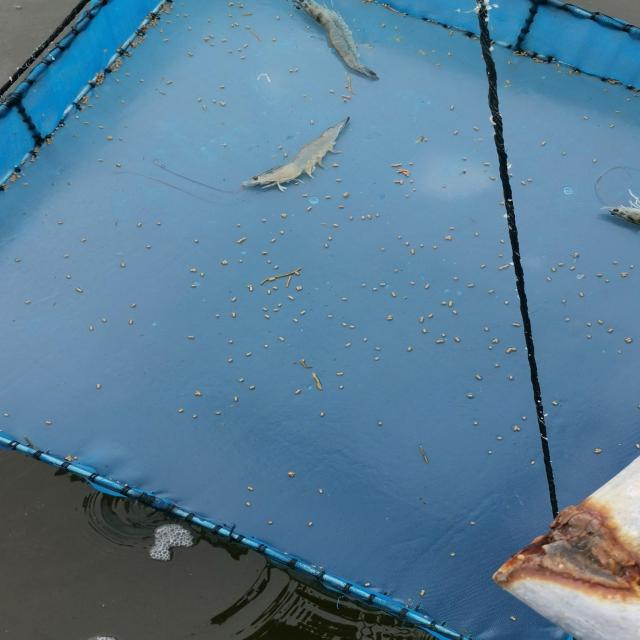Shrimp feeds: (395, 168, 413, 177), (450, 273, 461, 283), (334, 369, 346, 378), (293, 386, 302, 396), (284, 471, 299, 477), (1, 411, 12, 419), (317, 410, 328, 418), (369, 356, 386, 361), (342, 341, 354, 348), (503, 346, 517, 352), (570, 251, 582, 258), (44, 419, 54, 427), (624, 336, 634, 344), (426, 312, 436, 320), (478, 262, 488, 270), (127, 302, 140, 308), (245, 485, 256, 492), (443, 234, 454, 241), (422, 282, 431, 290), (247, 284, 256, 292), (194, 389, 204, 396), (418, 589, 428, 596), (385, 314, 395, 321), (247, 384, 258, 390), (243, 351, 254, 357), (277, 336, 288, 342), (486, 288, 497, 294), (304, 205, 315, 211), (361, 336, 370, 343), (512, 425, 521, 432), (474, 374, 483, 381), (231, 396, 241, 402), (226, 338, 236, 344), (466, 282, 476, 288), (498, 264, 508, 270), (229, 296, 239, 302), (394, 179, 406, 184), (331, 162, 341, 168), (338, 383, 345, 391), (492, 337, 500, 344), (287, 294, 295, 301), (237, 377, 246, 383), (495, 435, 504, 441), (502, 300, 511, 306), (435, 339, 445, 344), (597, 318, 604, 325), (190, 268, 198, 274), (299, 310, 307, 316), (466, 393, 475, 398), (74, 288, 85, 292), (189, 414, 200, 418), (213, 411, 224, 415), (227, 357, 234, 363), (245, 501, 252, 507), (390, 291, 397, 297), (220, 260, 228, 265), (260, 251, 270, 255), (295, 286, 303, 291), (176, 408, 186, 412), (376, 421, 384, 426), (451, 309, 459, 314), (136, 222, 142, 228), (120, 262, 126, 268), (266, 289, 272, 295), (348, 325, 357, 329), (318, 488, 324, 494), (508, 374, 514, 380), (511, 322, 520, 326), (418, 316, 424, 322), (441, 300, 447, 306), (280, 213, 287, 218), (263, 343, 270, 348), (307, 521, 314, 526), (450, 552, 457, 557), (187, 335, 195, 339), (364, 582, 372, 586), (468, 521, 476, 525), (607, 328, 615, 332), (578, 292, 586, 296), (272, 308, 280, 312), (231, 312, 236, 318), (410, 249, 415, 255), (89, 326, 94, 332), (530, 460, 536, 465), (406, 346, 412, 351), (454, 337, 461, 341), (440, 333, 447, 337), (270, 238, 277, 242), (188, 52, 193, 57), (96, 384, 102, 388), (449, 301, 453, 307), (146, 244, 152, 248), (266, 521, 274, 524), (510, 616, 516, 620), (166, 81, 173, 84), (106, 136, 113, 139), (129, 320, 134, 324), (451, 104, 454, 110), (422, 329, 428, 332), (410, 281, 415, 284)
